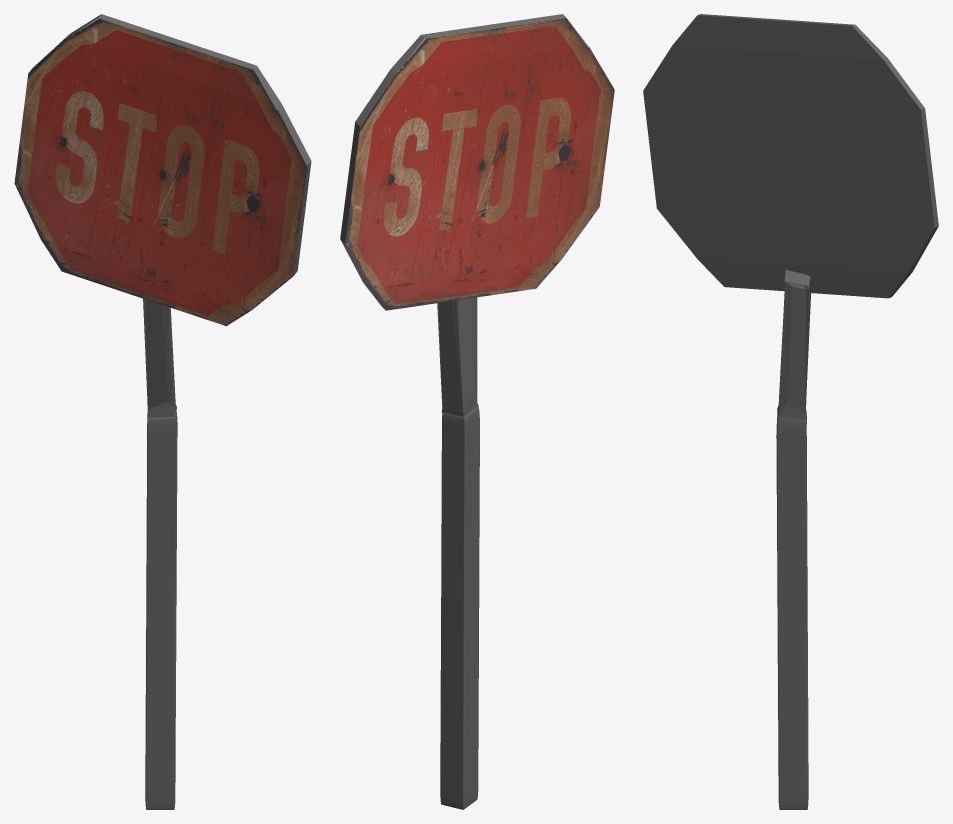
File: stopsign.fbx
The picture shows the model from 3 angles, left to right: view 1: azimuth 90°, elevation 25°; view 2: azimuth 150°, elevation 25°; view 3: azimuth 270°, elevation 25°; orthographic projection.
Parts seen in each view (by area): view 1: Cube; view 2: Cube; view 3: Cube.
Part boxes in pixels (left/top/right/bottom): Cube: left=14, top=14, right=311, bottom=809; Cube: left=340, top=14, right=614, bottom=809; Cube: left=643, top=14, right=938, bottom=809.
Size of the model in its own units: 335 by 1931 by 661.
